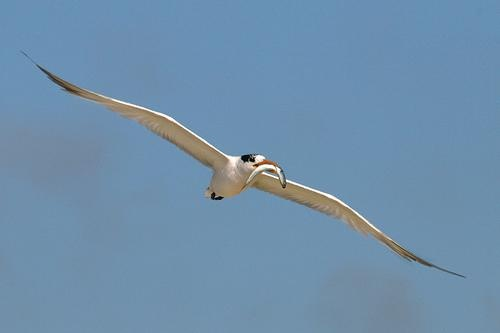bird: (21, 54, 468, 280)
